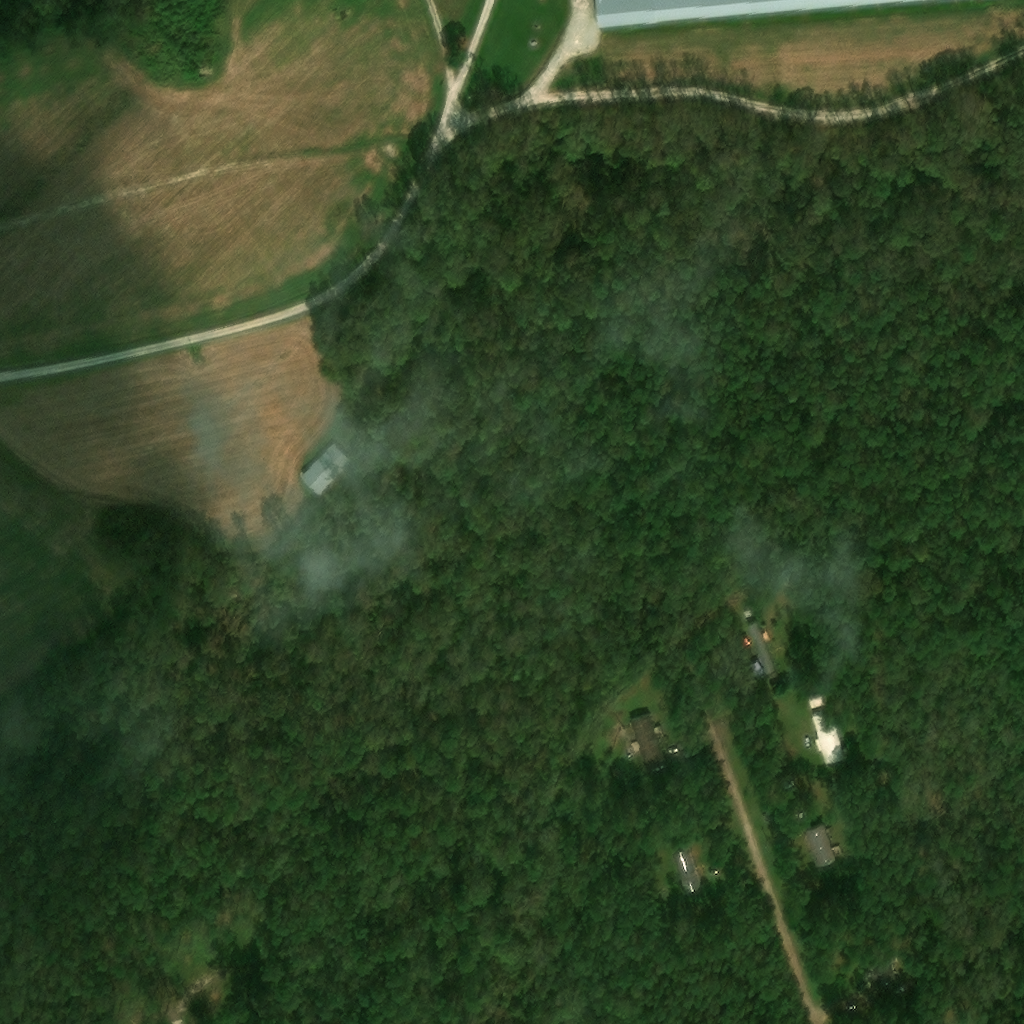no_damage: (596, 0, 961, 31), (302, 444, 354, 496), (631, 714, 665, 771), (811, 710, 843, 765), (747, 624, 777, 675), (802, 825, 835, 870), (672, 851, 704, 895), (869, 950, 898, 994), (744, 610, 757, 620), (769, 673, 781, 683)
